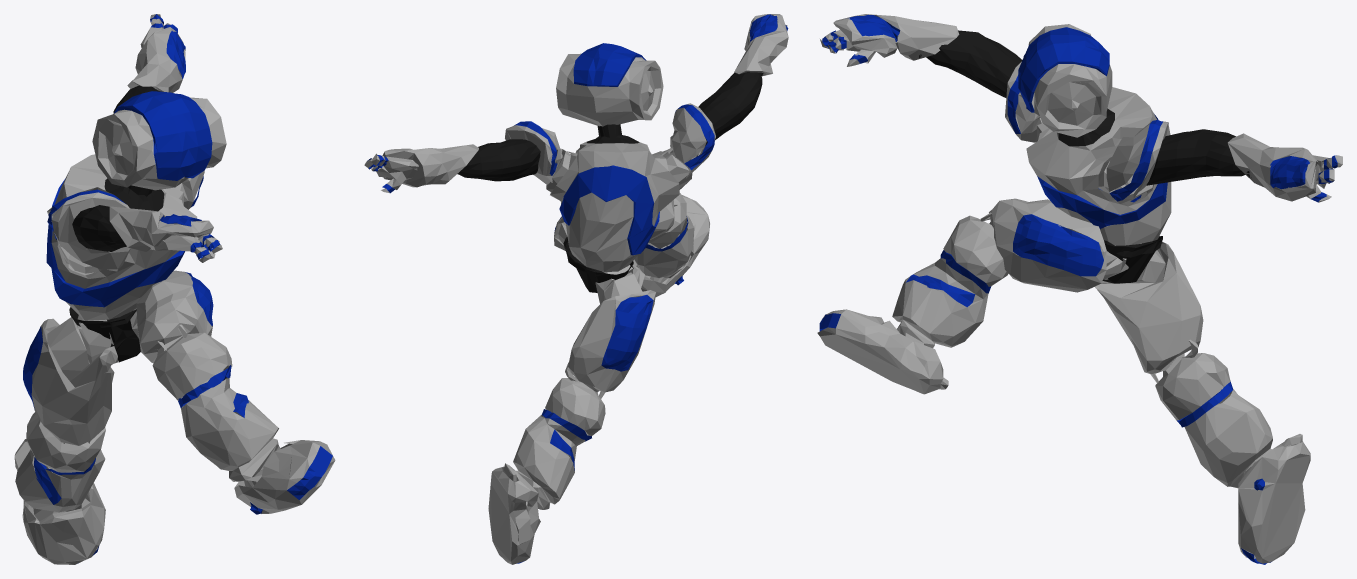
Rendered from run_jump3.obj.
3 renders of one model, left to right at view 1: azimuth 30°, elevation 25°; view 2: azimuth 150°, elevation 25°; view 3: azimuth 270°, elevation 25°, orthographic. The views are drawn at different scales.
Visible parts, largest first — view 1: Robot2.001_Robot2Mesh.000, Robot2_Robot2Mesh.001, Robot2.002_Robot2Mesh.002; view 2: Robot2.001_Robot2Mesh.000, Robot2_Robot2Mesh.001, Robot2.002_Robot2Mesh.002; view 3: Robot2.001_Robot2Mesh.000, Robot2_Robot2Mesh.001, Robot2.002_Robot2Mesh.002.
Boxes of the visible parts, x1,y1,x2,y2 form: Robot2.001_Robot2Mesh.000: [14, 14, 335, 564]; Robot2_Robot2Mesh.001: [23, 14, 332, 555]; Robot2.002_Robot2Mesh.002: [69, 85, 164, 362]; Robot2.001_Robot2Mesh.000: [364, 14, 788, 564]; Robot2_Robot2Mesh.001: [367, 14, 788, 563]; Robot2.002_Robot2Mesh.002: [457, 72, 763, 292]; Robot2.001_Robot2Mesh.000: [817, 14, 1342, 563]; Robot2_Robot2Mesh.001: [819, 14, 1337, 564]; Robot2.002_Robot2Mesh.002: [919, 30, 1251, 283].
Bounding box in the file's own units: 1.16 × 2.13 × 1.96.
